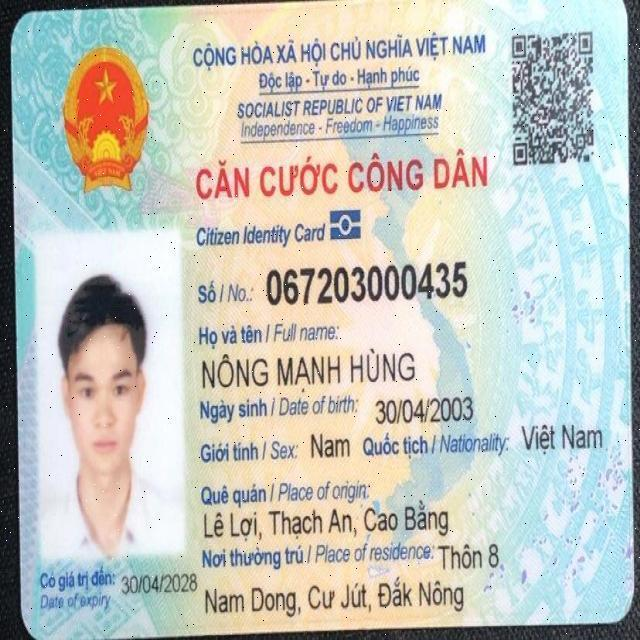current_place: (201, 572, 468, 621), (435, 536, 507, 576)
dob: (369, 388, 480, 431)
expire_date: (117, 567, 200, 601)
gender: (305, 422, 355, 468)
id: (262, 255, 473, 312)
name: (194, 346, 421, 395)
nationality: (517, 417, 607, 460)
origin_place: (196, 502, 457, 544)
